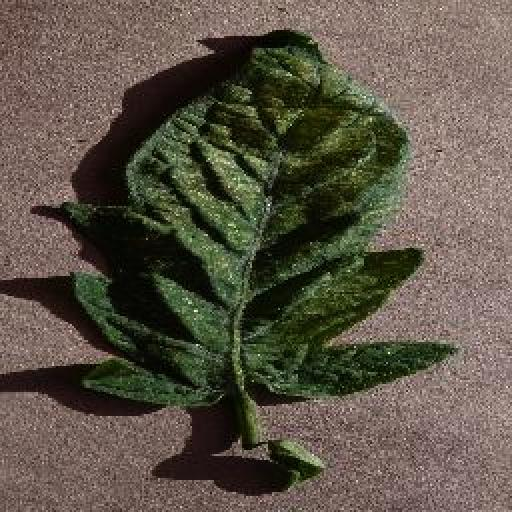disease_tomato: (66, 26, 460, 406)
